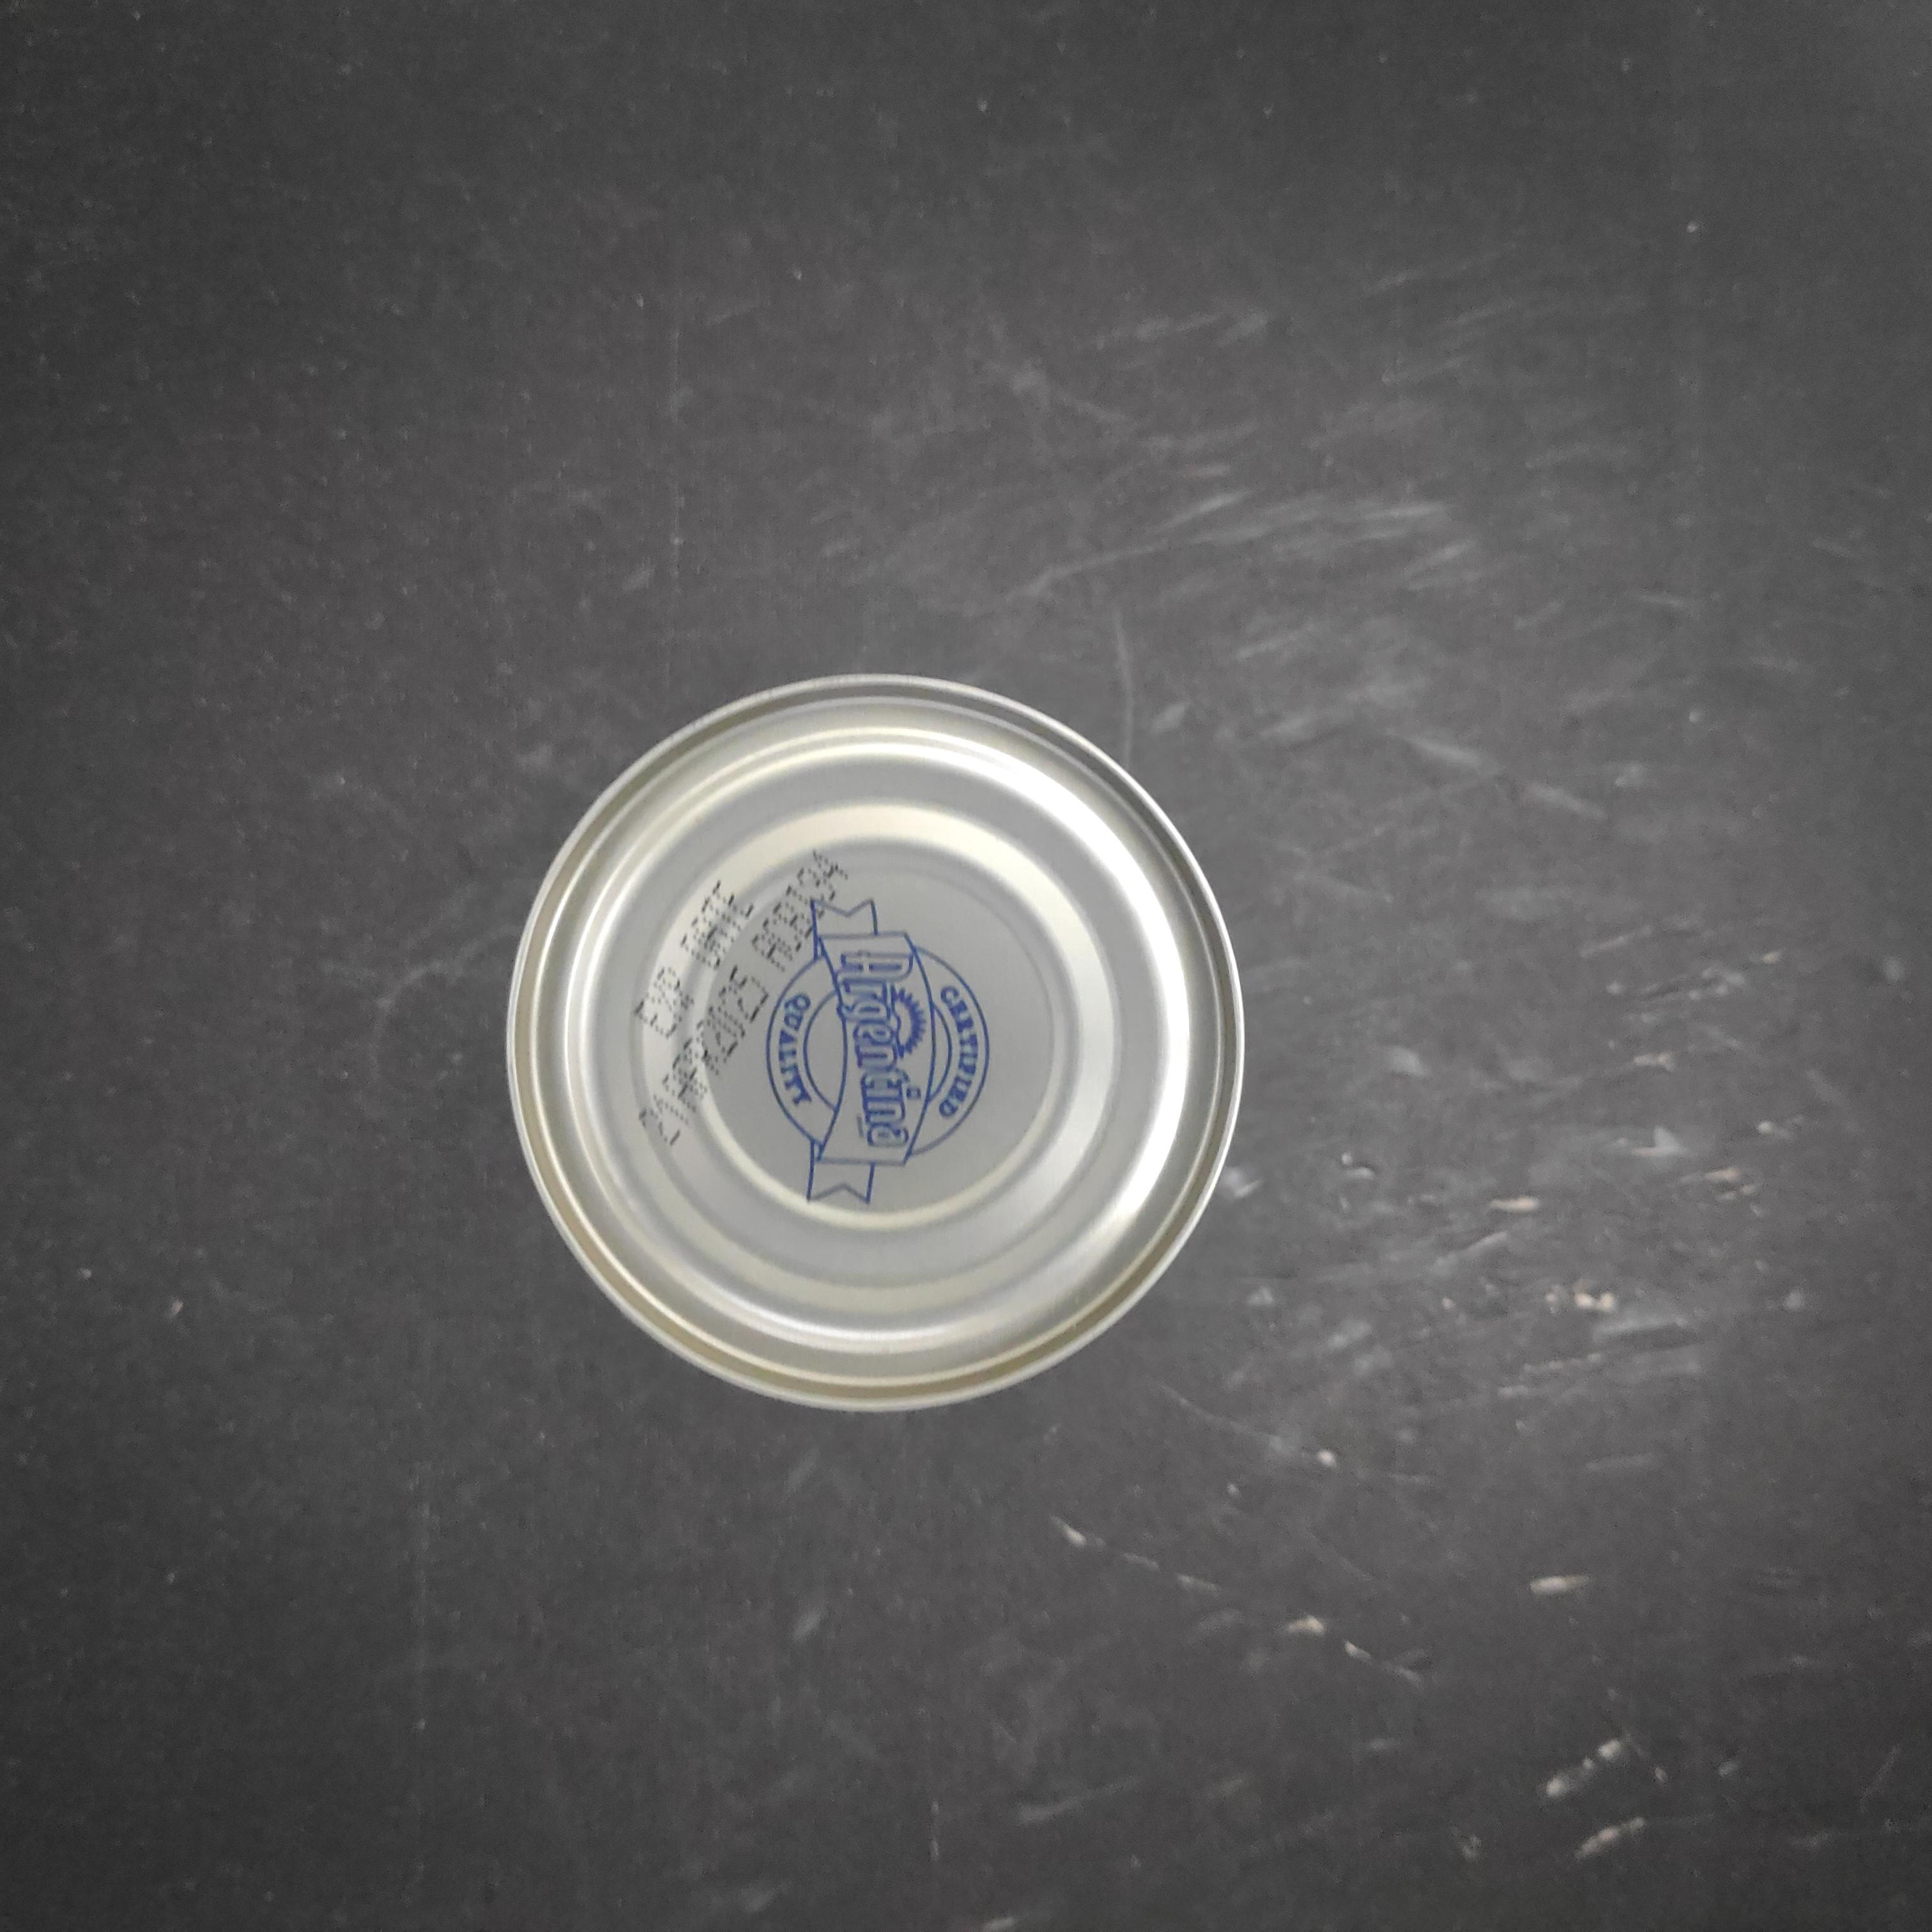No defect: (504, 671, 1247, 1415)
